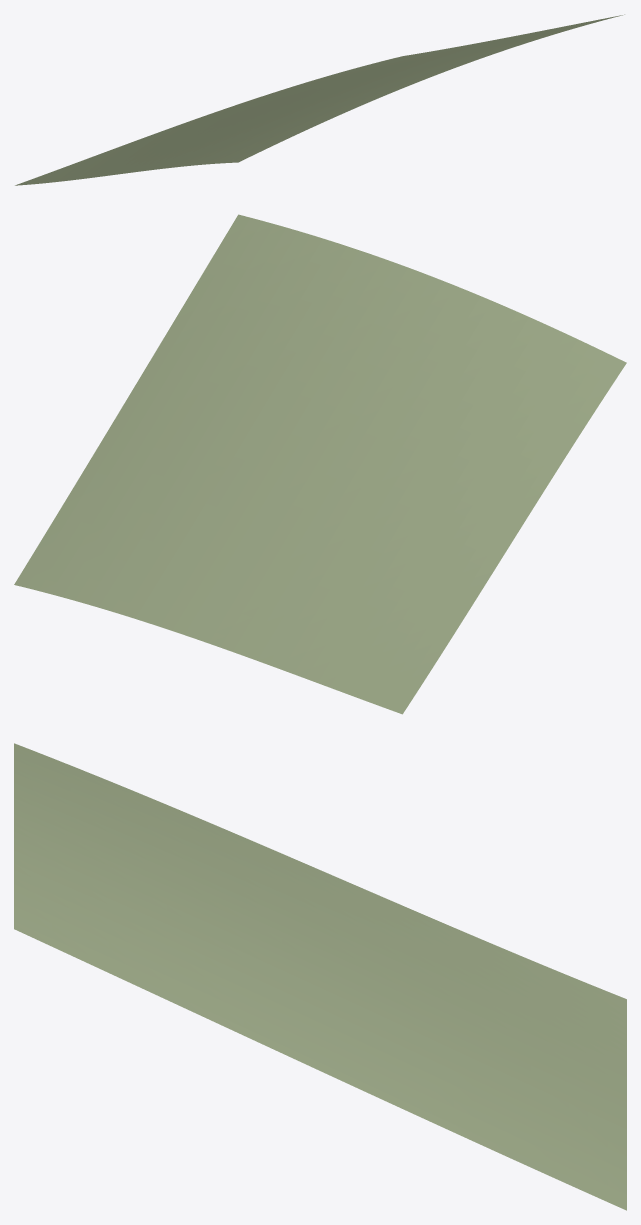
File: alpine-13-7.glb
3 renders of one model, top to bottom at view 1: azimuth 30°, elevation 25°; view 2: azimuth 150°, elevation 25°; view 3: azimuth 270°, elevation 25°, orthographic. The views are drawn at different scales.
Parts seen in each view (by area): view 1: alpine-13-7; view 2: alpine-13-7; view 3: alpine-13-7.
Part boxes in pixels (x1=…): alpine-13-7: x1=15, y1=14, x2=624, y2=185; alpine-13-7: x1=14, y1=214, x2=626, y2=714; alpine-13-7: x1=14, y1=743, x2=626, y2=1210.
Bounding box in the file's own units: 256 × 152 × 256.
